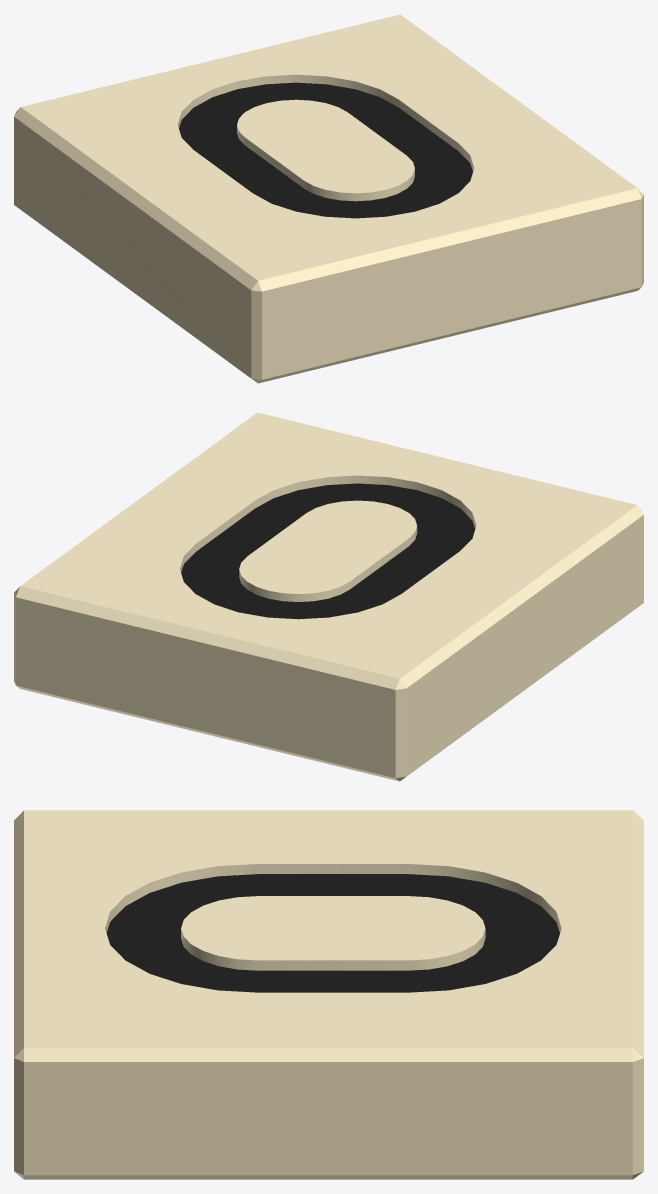
File: Game_Anagram_Tile_O_01.fbx
3 views of the same model, one above another, from view 1: azimuth 30°, elevation 25°; view 2: azimuth 150°, elevation 25°; view 3: azimuth 270°, elevation 25° (orthographic). The views are drawn at different scales.
Parts seen in each view (by area): view 1: Game_Anagram_Tile_O_01; view 2: Game_Anagram_Tile_O_01; view 3: Game_Anagram_Tile_O_01.
Boxes of the visible parts, x1=… form: Game_Anagram_Tile_O_01: x1=14, y1=14, x2=643, y2=383; Game_Anagram_Tile_O_01: x1=14, y1=412, x2=643, y2=781; Game_Anagram_Tile_O_01: x1=14, y1=810, x2=643, y2=1179.
Size of the model in its own units: 16.4 by 4.1 by 17.77.
